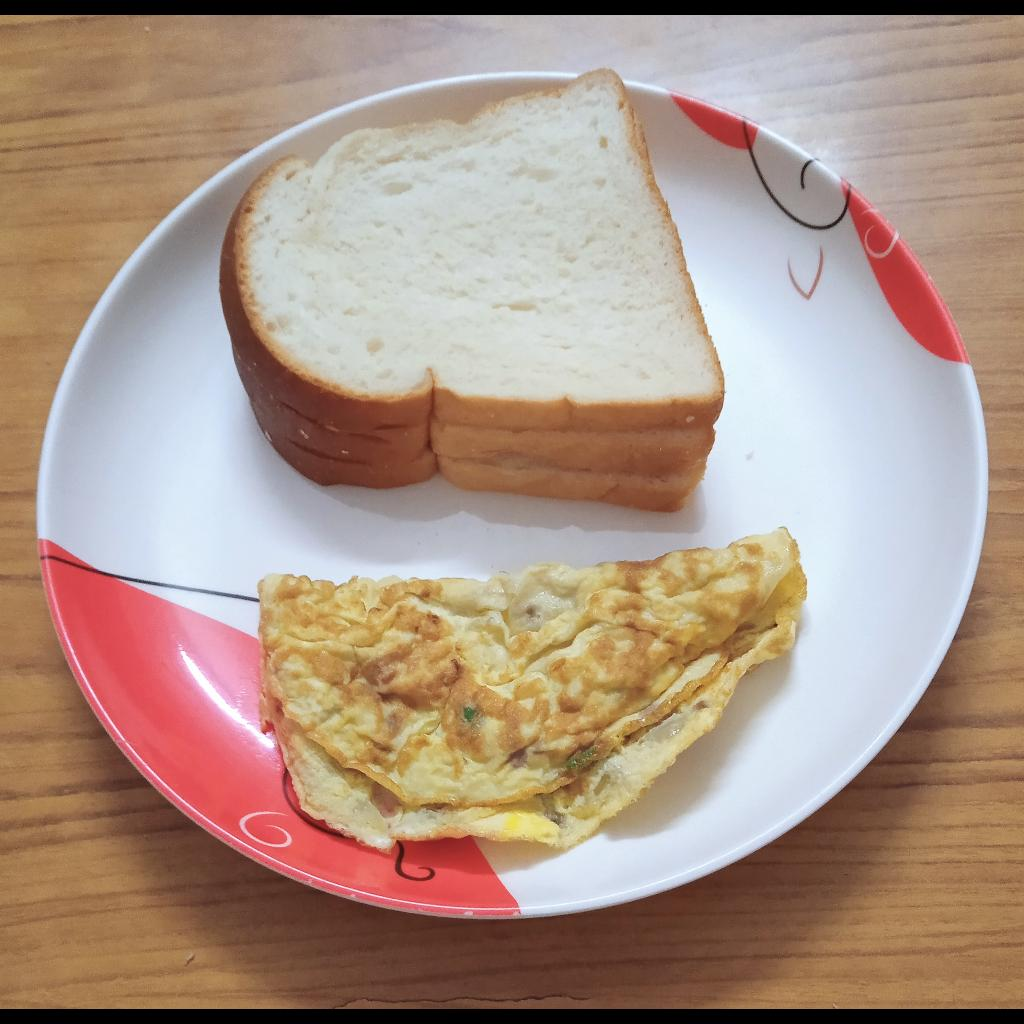bread: (217, 69, 726, 516)
egg-poached: (255, 525, 810, 844)
